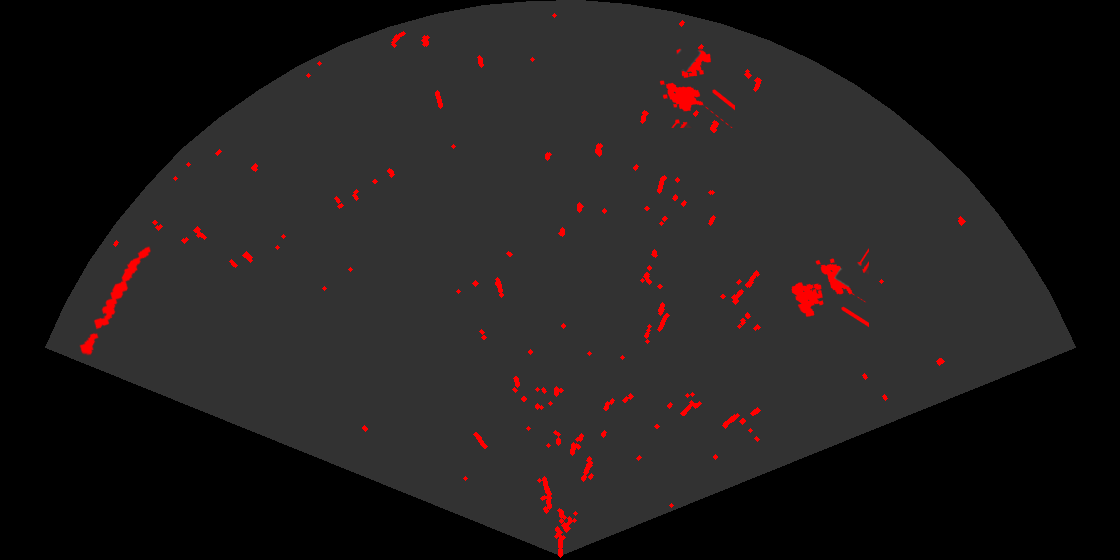cage: (790, 247, 869, 329), (658, 47, 735, 128)
chain: (78, 245, 153, 357)
